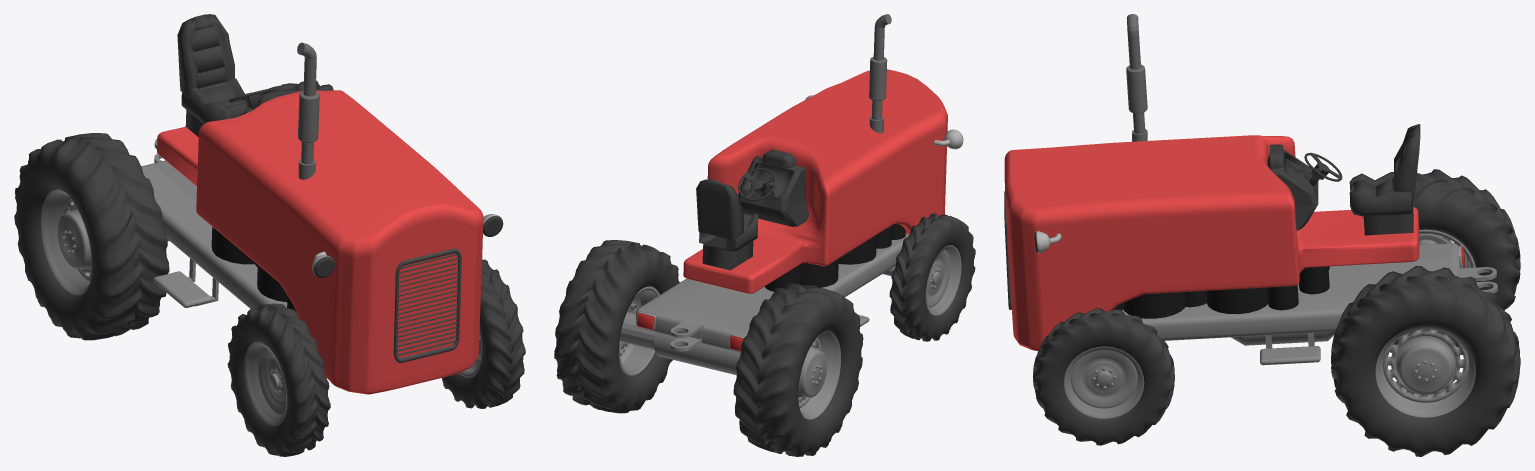
File: Tractor.fbx
The picture shows the model from 3 angles, left to right: view 1: azimuth 30°, elevation 25°; view 2: azimuth 150°, elevation 25°; view 3: azimuth 270°, elevation 25°; orthographic projection. The views are drawn at different scales.
Visible parts, largest first — view 1: Body, polySurface28, polySurface33, Tractor:Tractor:polySurface33, Tractor:Tractor:chair, Tractor:Tractor:botom_body, Tractor_grill, exhost, Tractor:Tractor:R_ladder, pCylinder7, pCylinder2; view 2: Body, polySurface28, Tractor:Tractor:polySurface28, polySurface33, Tractor:Tractor:botom_body, Tractor:Tractor:chair, Tractor:Tractor:meter_board, Tractor:Tractor:B_wheel, exhost, pCylinder7, Tractor:conector, pCylinder2 (+1 smaller); view 3: Body, Tractor:Tractor:polySurface28, Tractor:Tractor:polySurface33, Tractor:Tractor:botom_body, polySurface28, Tractor:Tractor:chair, Tractor:Tractor:meter_board, exhost, polySurface37, polySurface35, Tractor:Tractor:L_ladder, Tractor:Tractor:gearbox (+3 smaller).
Part boxes in pixels (bbox=[...]): Body: bbox=[157, 90, 483, 394]; polySurface28: bbox=[14, 133, 169, 340]; polySurface33: bbox=[227, 303, 330, 456]; Tractor:Tractor:polySurface33: bbox=[442, 259, 525, 408]; Tractor:Tractor:chair: bbox=[177, 14, 274, 136]; Tractor:Tractor:botom_body: bbox=[141, 160, 287, 308]; Tractor_grill: bbox=[393, 248, 461, 362]; exhost: bbox=[297, 42, 319, 179]; Tractor:Tractor:R_ladder: bbox=[153, 258, 218, 307]; pCylinder7: bbox=[211, 227, 254, 264]; pCylinder2: bbox=[257, 265, 287, 302]; Body: bbox=[683, 69, 947, 293]; polySurface28: bbox=[733, 283, 863, 456]; Tractor:Tractor:polySurface28: bbox=[554, 240, 679, 413]; polySurface33: bbox=[889, 213, 975, 341]; Tractor:Tractor:botom_body: bbox=[635, 233, 909, 352]; Tractor:Tractor:chair: bbox=[696, 168, 776, 270]; Tractor:Tractor:meter_board: bbox=[738, 149, 808, 226]; Tractor:Tractor:B_wheel: bbox=[620, 312, 740, 375]; exhost: bbox=[869, 14, 891, 133]; pCylinder7: bbox=[800, 259, 838, 287]; Tractor:conector: bbox=[670, 320, 703, 351]; pCylinder2: bbox=[838, 235, 876, 264]; Body: bbox=[1004, 135, 1419, 351]; Tractor:Tractor:polySurface28: bbox=[1331, 266, 1520, 456]; Tractor:Tractor:polySurface33: bbox=[1033, 308, 1174, 445]; Tractor:Tractor:botom_body: bbox=[1122, 243, 1460, 340]; polySurface28: bbox=[1394, 169, 1520, 347]; Tractor:Tractor:chair: bbox=[1304, 124, 1420, 235]; Tractor:Tractor:meter_board: bbox=[1267, 144, 1318, 230]; exhost: bbox=[1126, 14, 1147, 141]; polySurface37: bbox=[1206, 287, 1268, 314]; polySurface35: bbox=[1123, 292, 1185, 318]; Tractor:Tractor:L_ladder: bbox=[1260, 333, 1320, 365]; Tractor:Tractor:gearbox: bbox=[1231, 331, 1334, 345].
Bounding box in the file's own units: 184 × 244 × 317.
